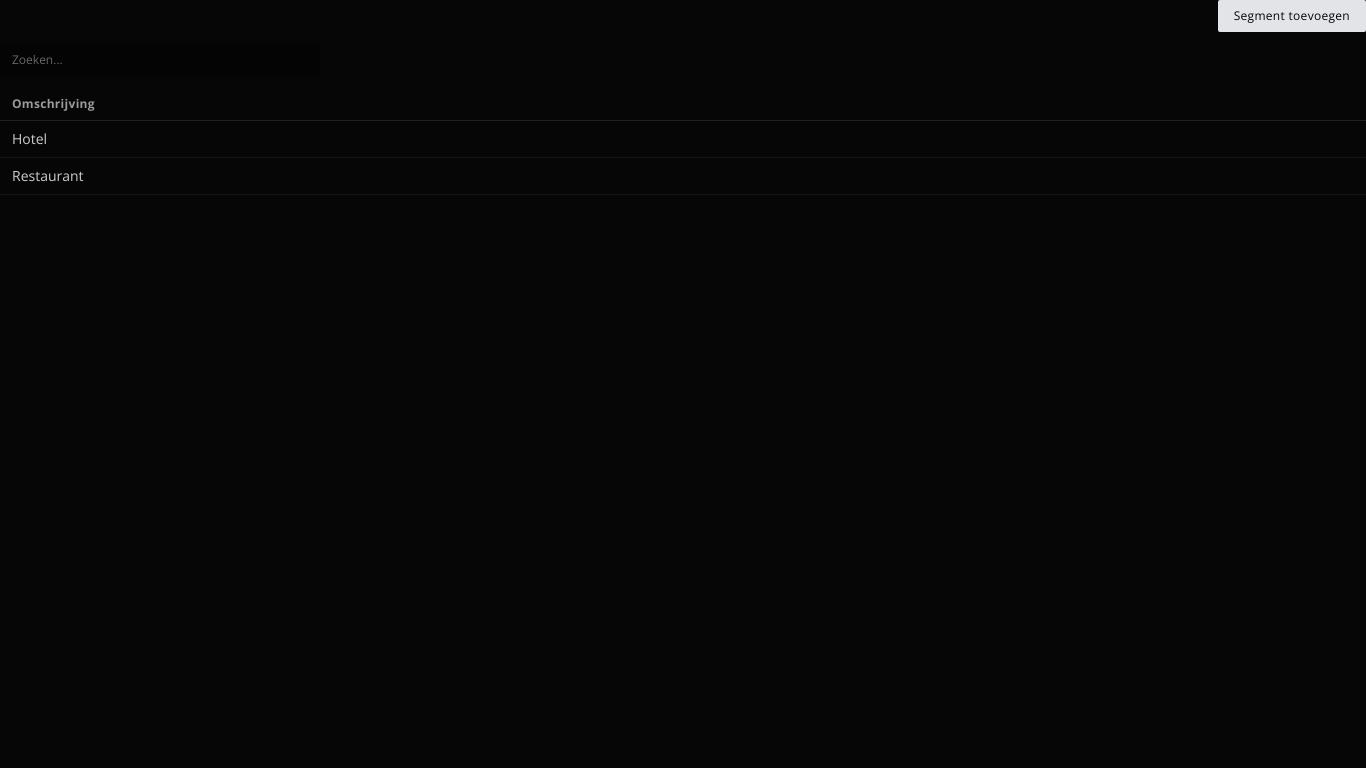
Test case: SegmentenSection › disables Opslaan until omschrijving is filled in
Step 1. Click the button with test id "segmenten-add" → (1292, 16), box [1218,0,1365,32]
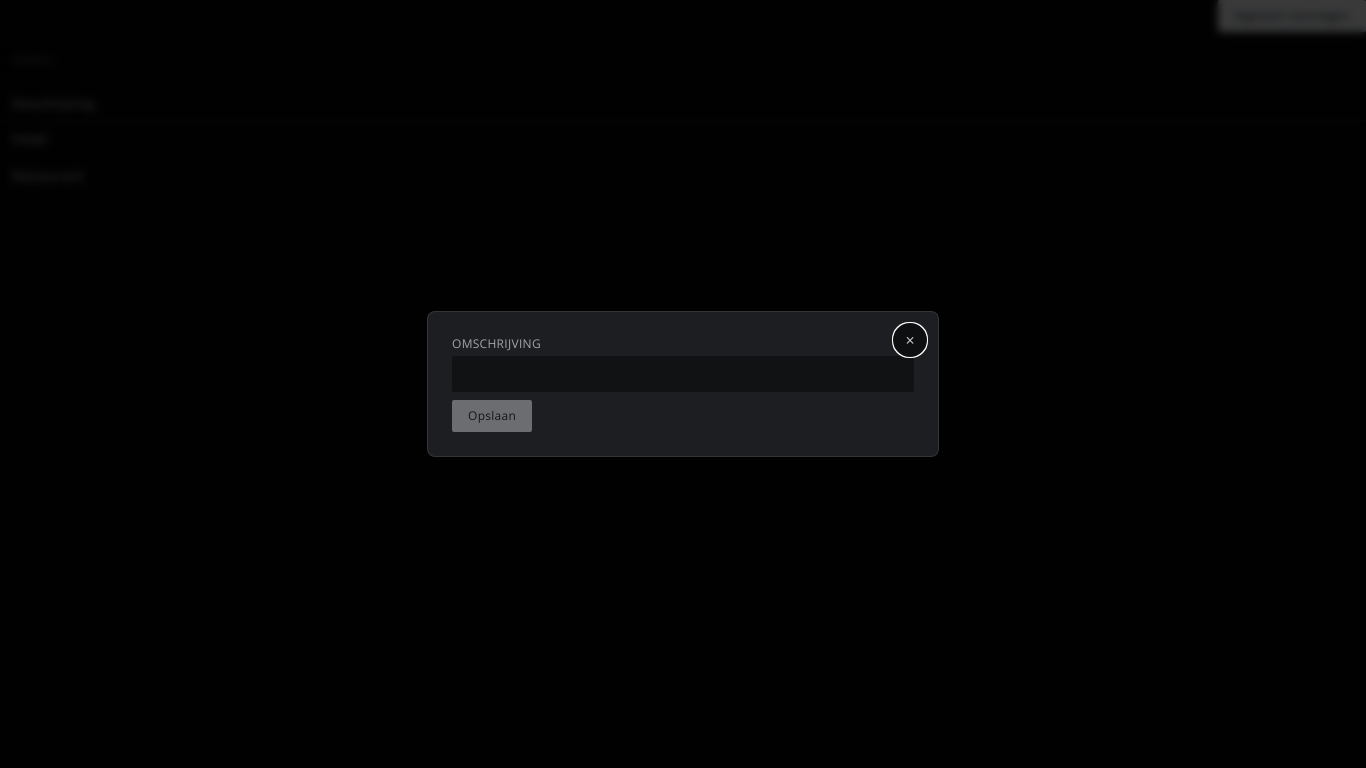
Result: the button with test id "segment-modal-opslaan" is disabled at [452,400,532,432]
Step 2. Type "X" into the field with test id "segment-modal-omschrijving" → (683, 374), box [452,356,914,392]
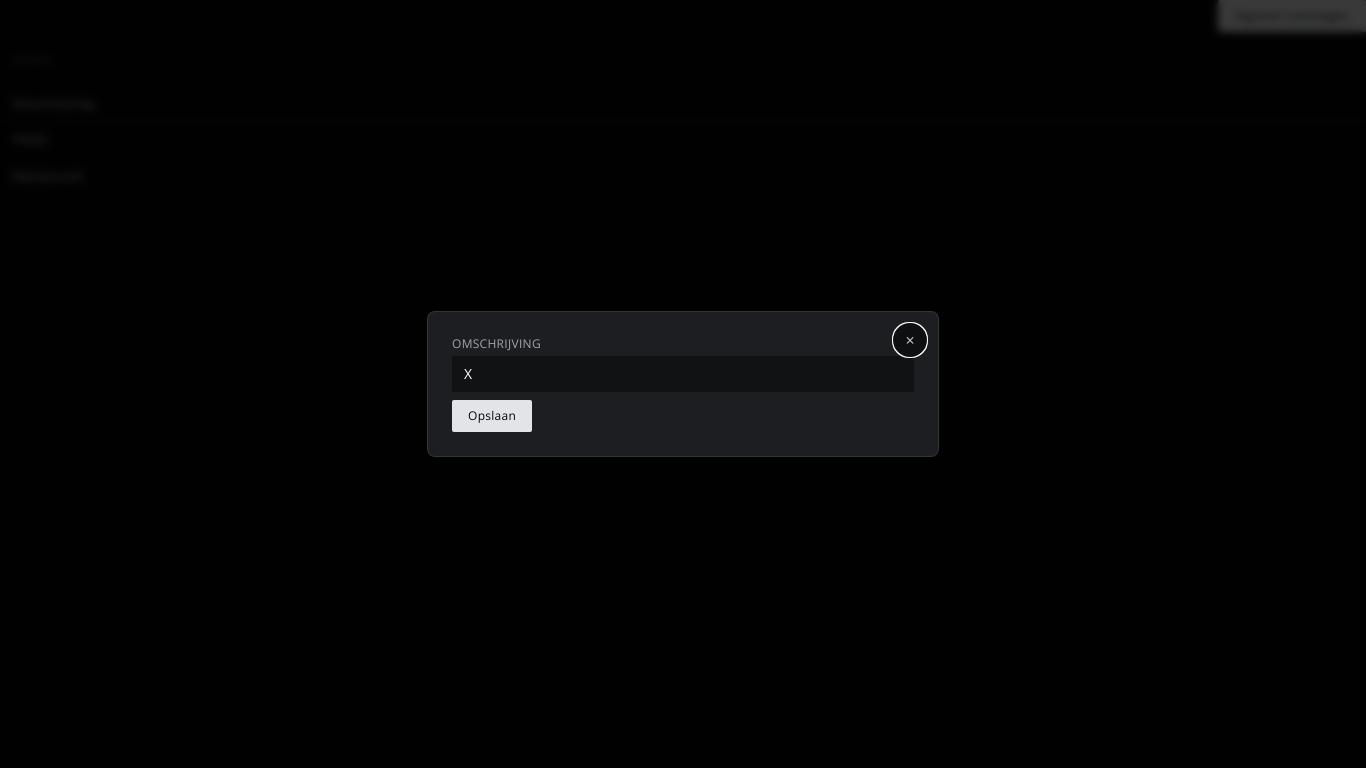
Result: the button with test id "segment-modal-opslaan" is enabled at [452,400,532,432]
